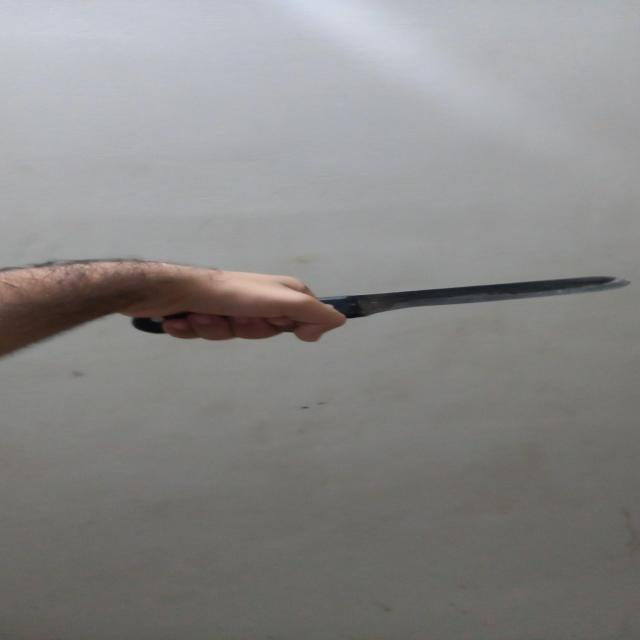faca: (131, 276, 634, 334)
